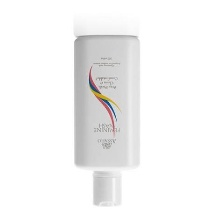book: (69, 30, 146, 210)
